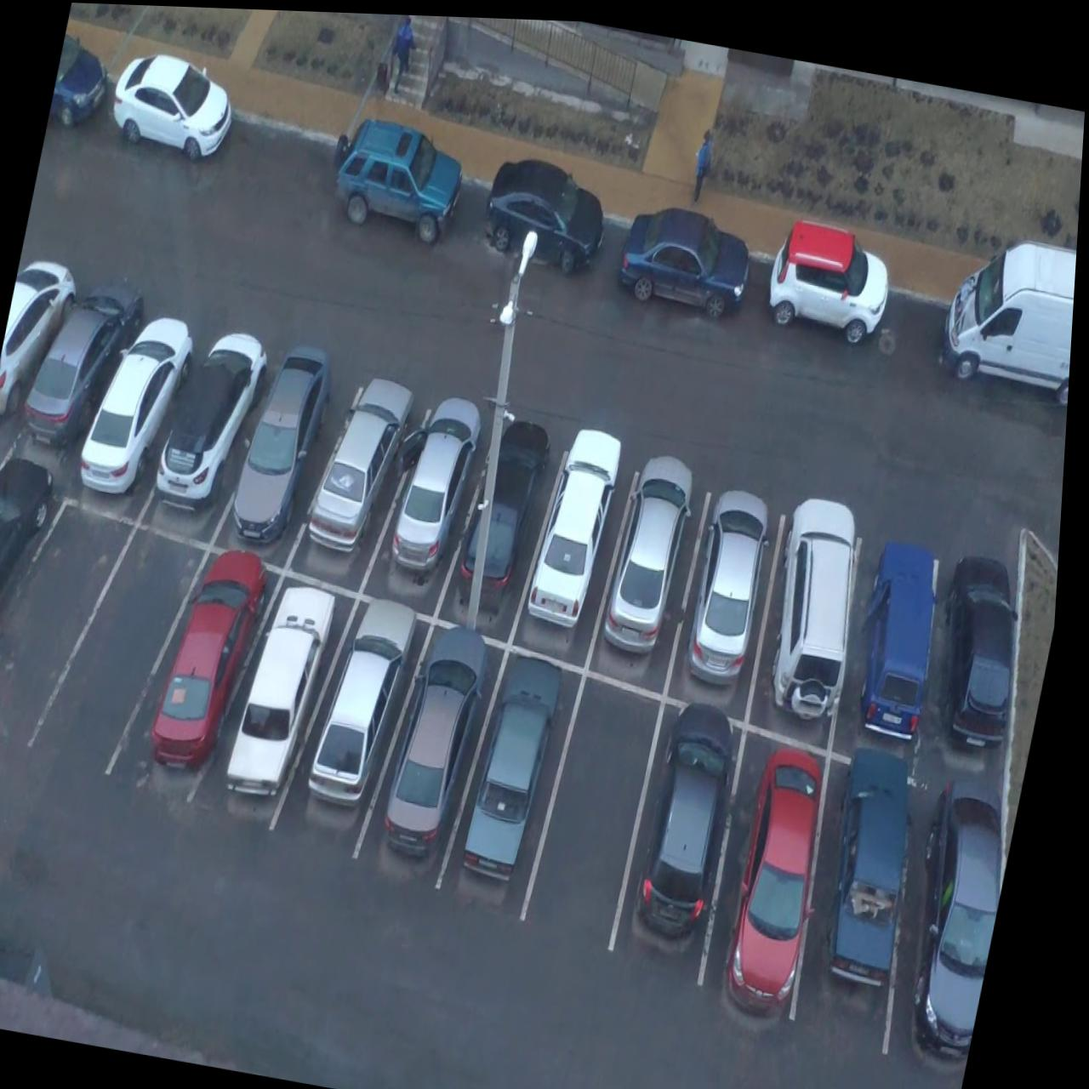cars: (687, 719, 847, 1043), (775, 734, 935, 1056), (600, 677, 755, 1001), (358, 608, 504, 919), (872, 772, 1017, 1067), (284, 576, 420, 877), (445, 637, 582, 930), (733, 483, 890, 736), (217, 558, 343, 861), (134, 540, 270, 808), (815, 524, 957, 763), (584, 439, 718, 690), (141, 305, 278, 548), (903, 560, 1035, 795), (69, 287, 203, 515), (663, 478, 798, 700), (295, 355, 421, 585), (515, 409, 638, 644), (217, 338, 341, 567), (368, 376, 492, 604), (441, 401, 559, 628), (11, 287, 134, 466), (0, 268, 88, 466)
empty: (0, 467, 135, 779), (520, 664, 664, 953), (56, 514, 195, 786)
